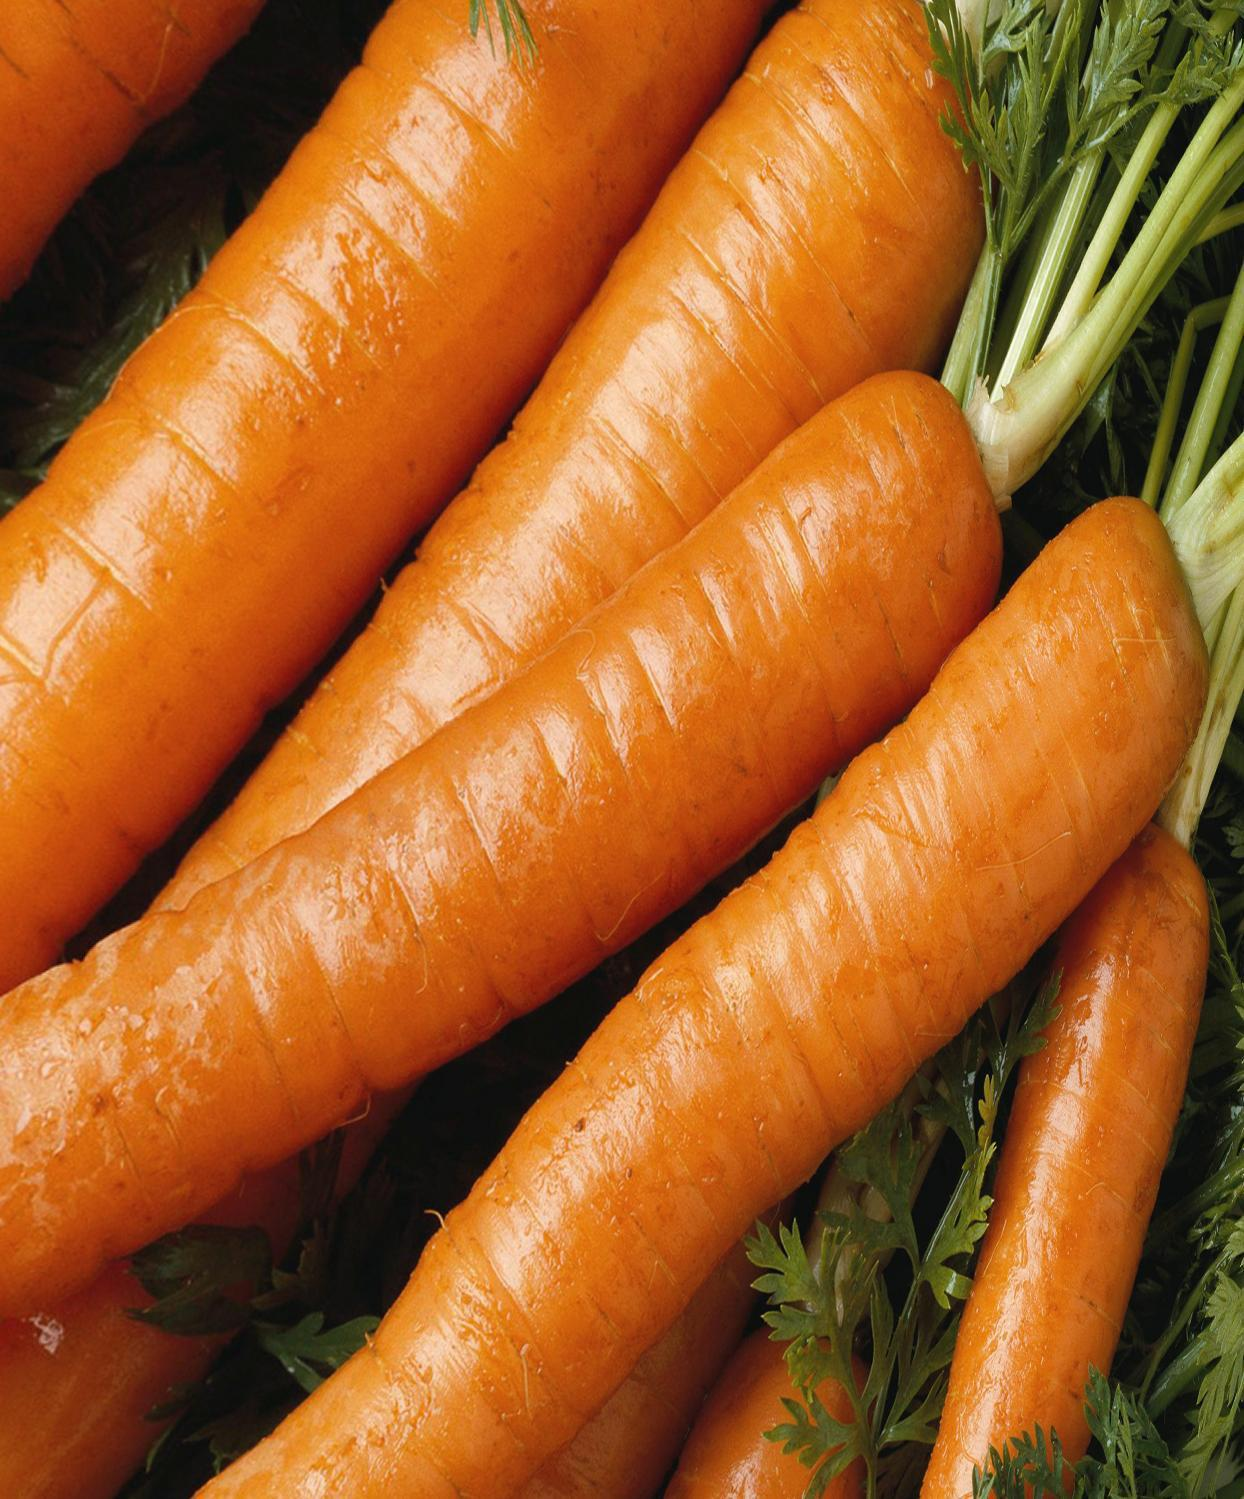carrot: (1, 17, 1244, 1499)
